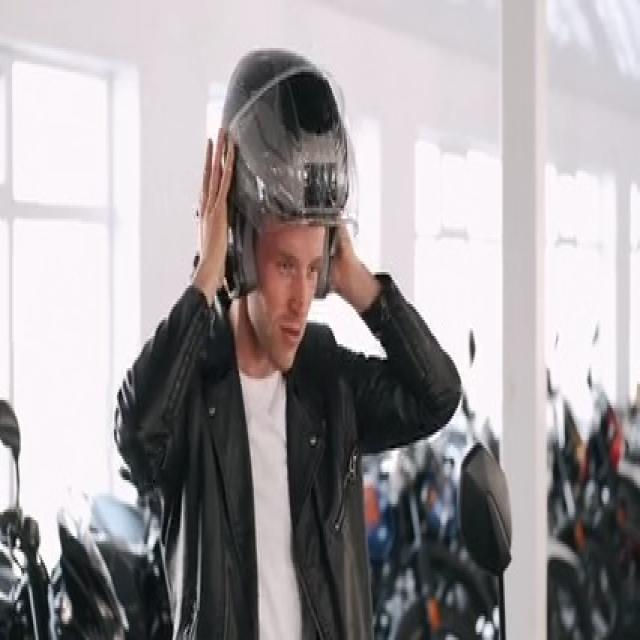Helmet_Wearer: (205, 44, 358, 356)
Person: (116, 43, 461, 640), (118, 245, 458, 640)
